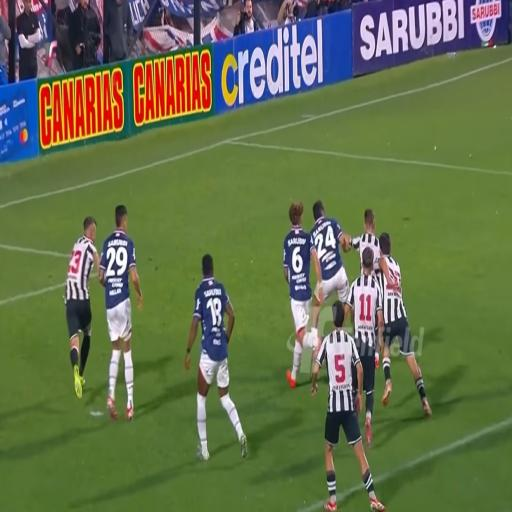Player: (190, 251, 242, 459), (282, 192, 318, 383), (105, 202, 136, 422), (63, 215, 98, 409), (326, 305, 354, 510), (347, 250, 380, 418), (308, 194, 350, 307), (375, 236, 399, 396), (357, 205, 382, 357)
